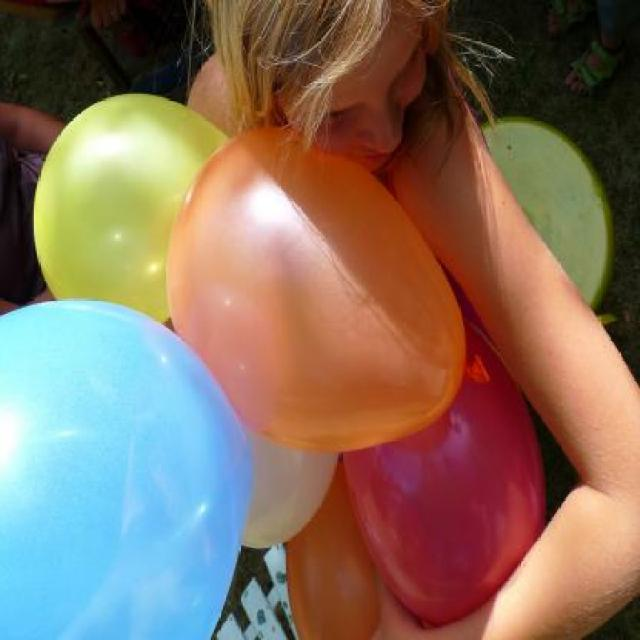balloon: (163, 114, 474, 468), (0, 291, 260, 638), (337, 296, 545, 624), (275, 455, 393, 639)
